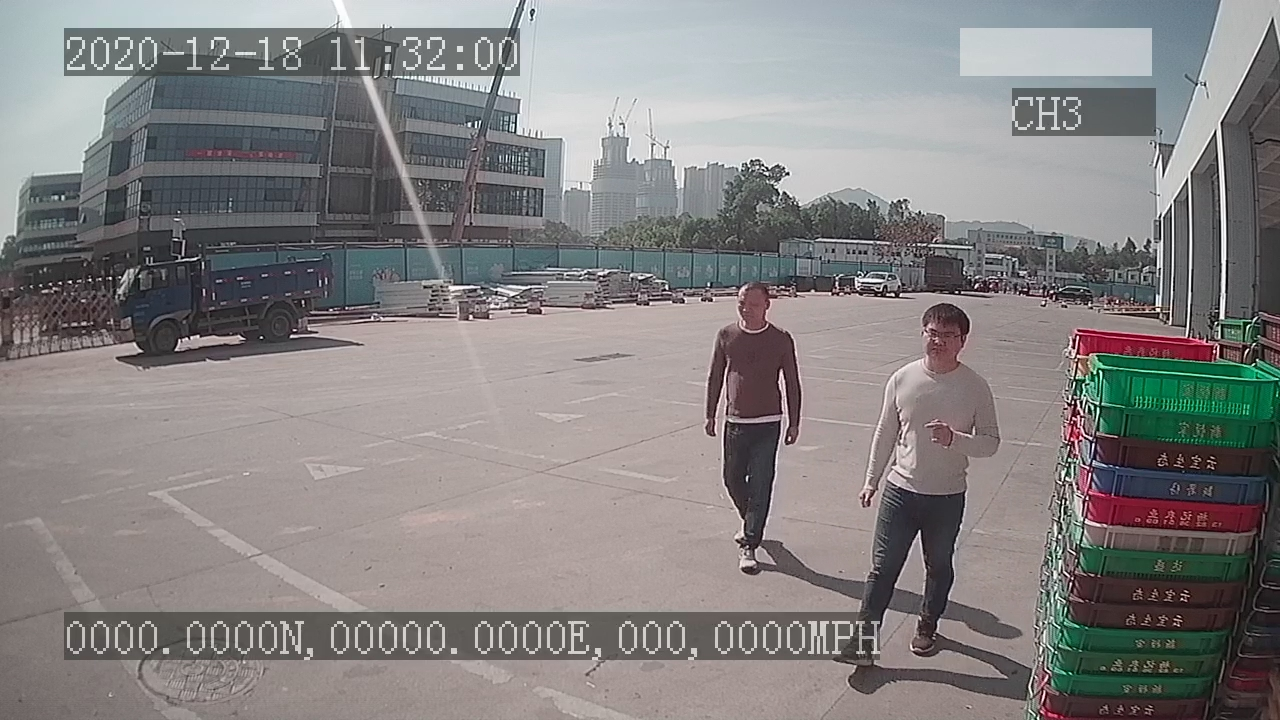person: (704, 275, 801, 573)
